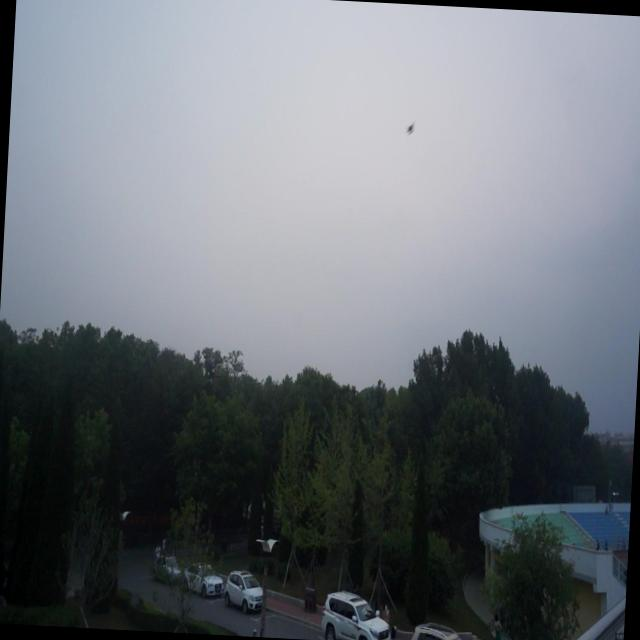drone: (404, 118, 417, 136)
